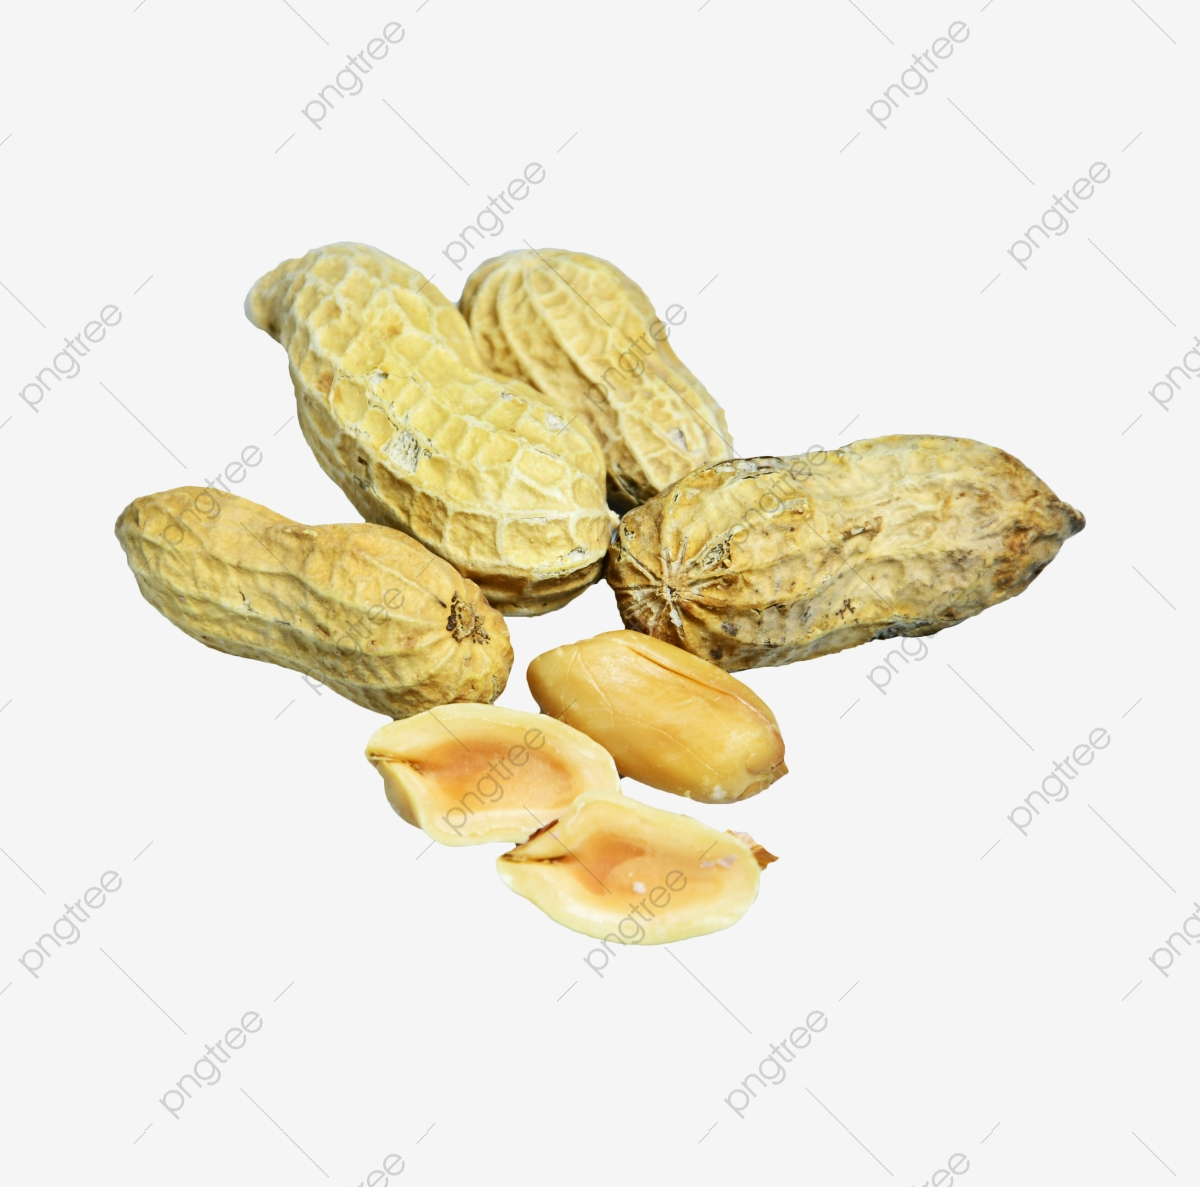kacang2: (233, 238, 615, 624), (601, 422, 1108, 673), (85, 467, 526, 716), (455, 218, 735, 500)
